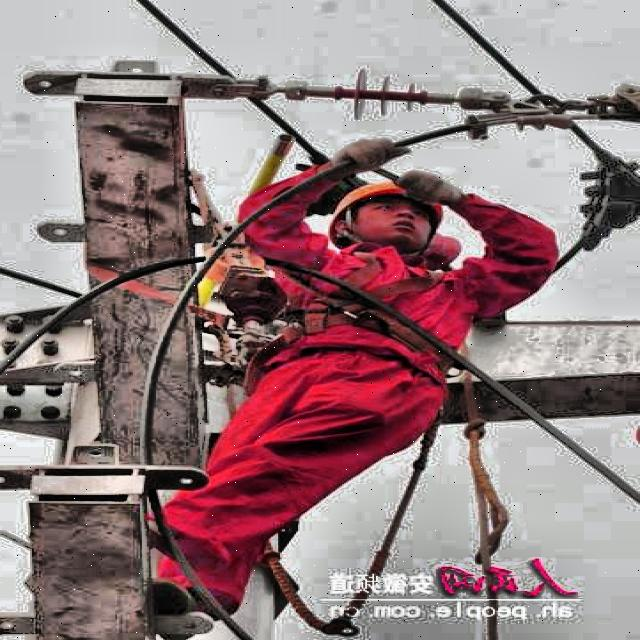helmet: (303, 168, 461, 256)
